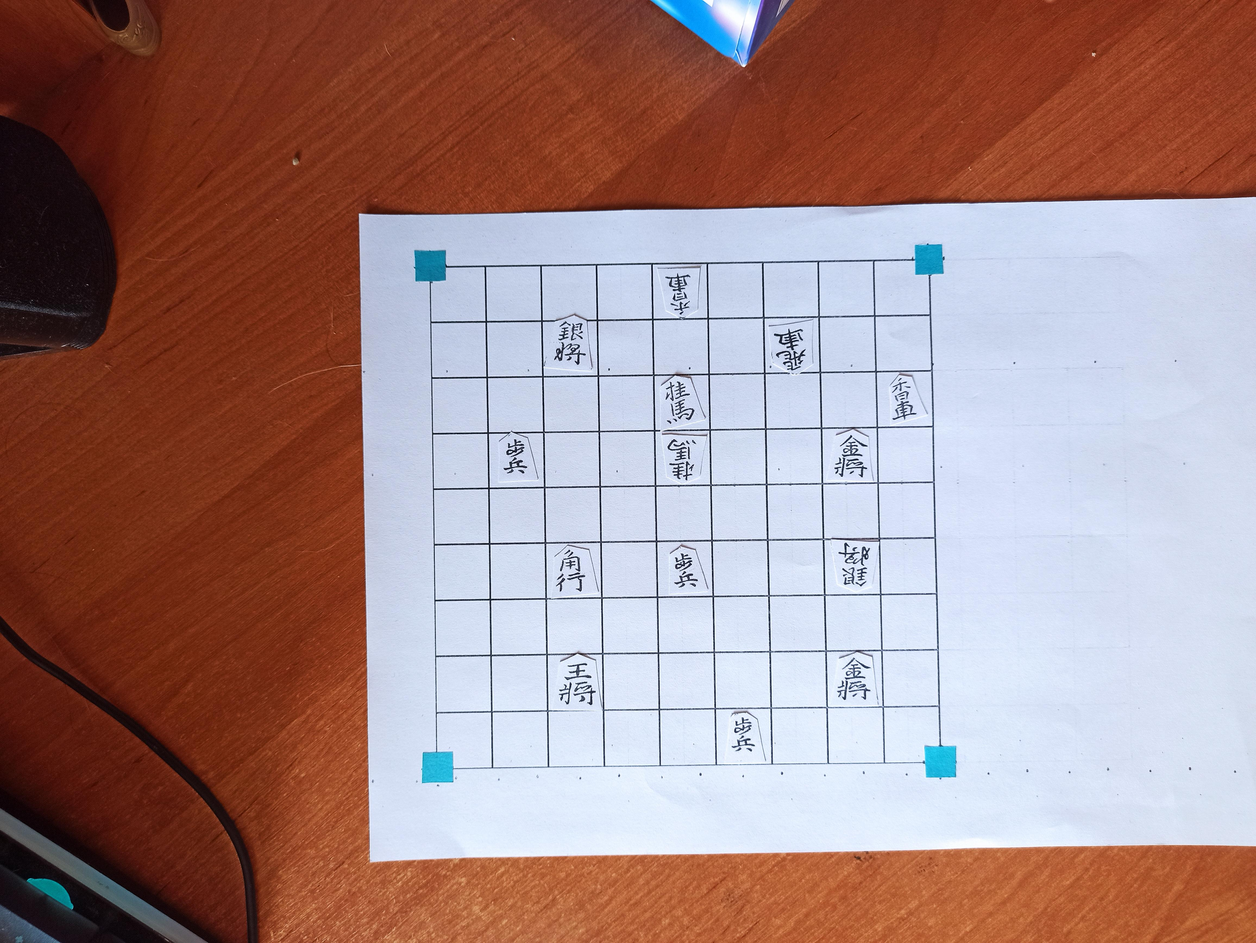board: (431, 260, 942, 770)
